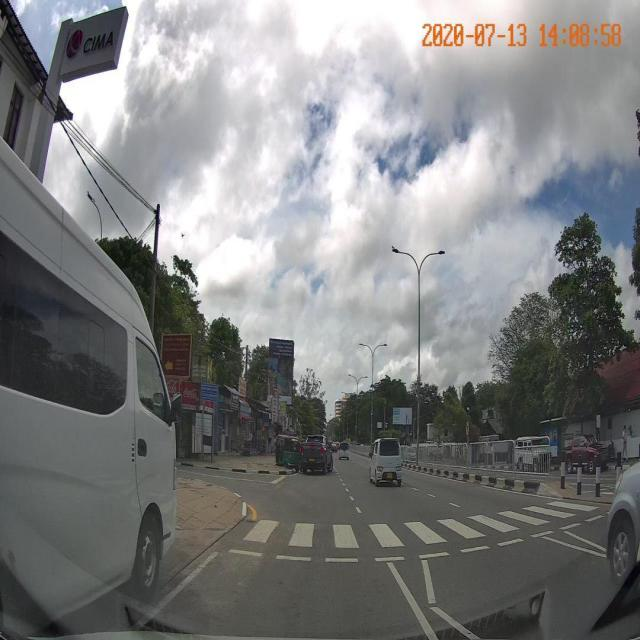Liniya 1: (124, 550, 221, 630), (387, 561, 440, 640), (429, 604, 485, 639), (538, 535, 606, 560), (481, 485, 563, 500), (563, 531, 607, 553), (420, 559, 436, 606), (269, 476, 287, 485), (448, 502, 461, 508), (355, 506, 363, 514)
Perehod: (241, 500, 601, 551)
